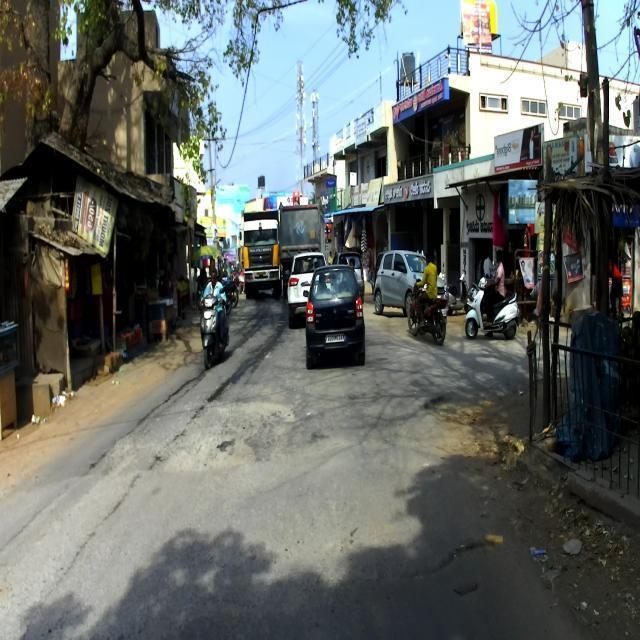Pothole: (150, 401, 300, 471)
